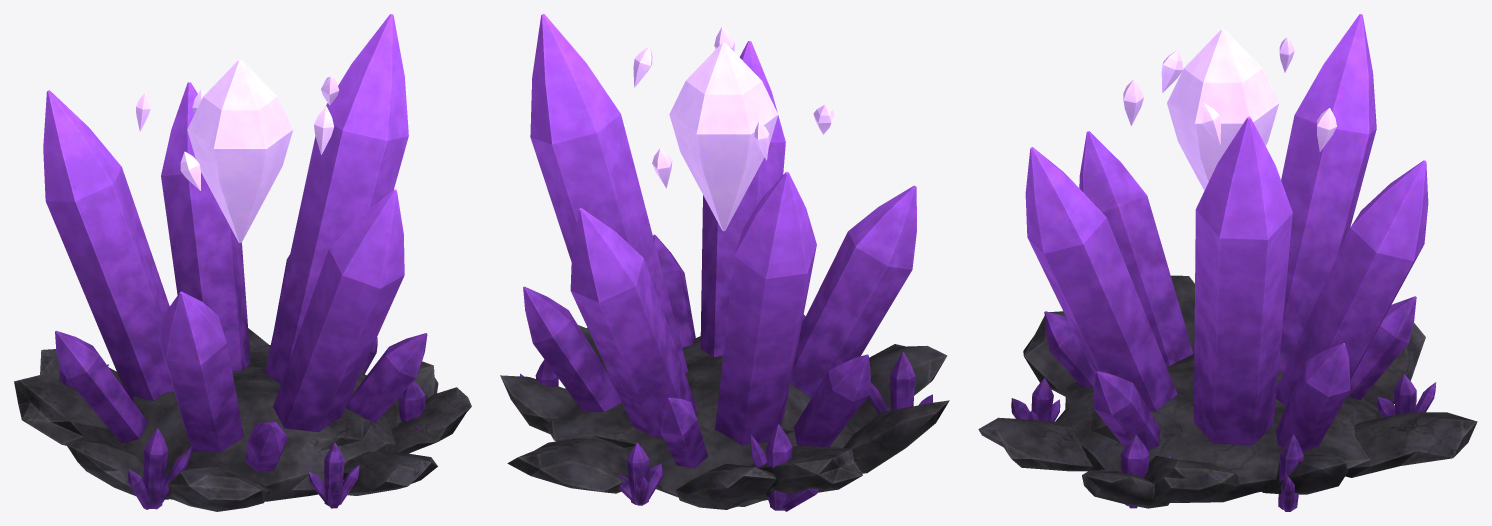
Rendered from shard_core.glb.
The picture shows the model from 3 angles, left to right: view 1: azimuth 30°, elevation 25°; view 2: azimuth 150°, elevation 25°; view 3: azimuth 270°, elevation 25°; orthographic projection. The views are drawn at different scales.
Parts seen in each view (by area): view 1: Hull, Core; view 2: Hull, Core; view 3: Hull, Core.
Part boxes in pixels (x1=…): Hull: x1=14, y1=14, x2=471, y2=511; Core: x1=136, y1=59, x2=339, y2=242; Hull: x1=500, y1=14, x2=949, y2=511; Core: x1=633, y1=26, x2=834, y2=231; Hull: x1=978, y1=14, x2=1477, y2=511; Core: x1=1123, y1=29, x2=1336, y2=190.
Size of the model in its own units: 7.57 by 8.15 by 8.43.
Materials: 1 (1 with a texture image).
